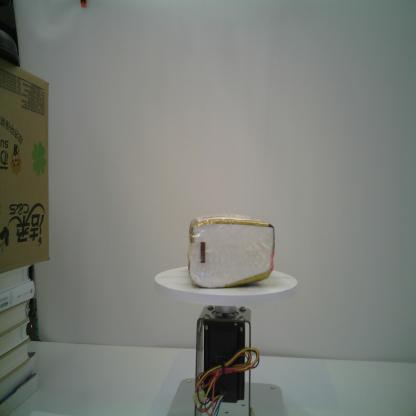Tissue: (188, 213, 275, 289)
